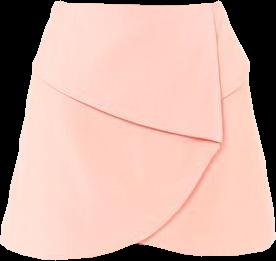Hemline: (0, 3, 224, 260), (137, 239, 275, 258)
Waistline: (31, 68, 219, 143), (54, 0, 221, 6), (221, 71, 250, 101)
